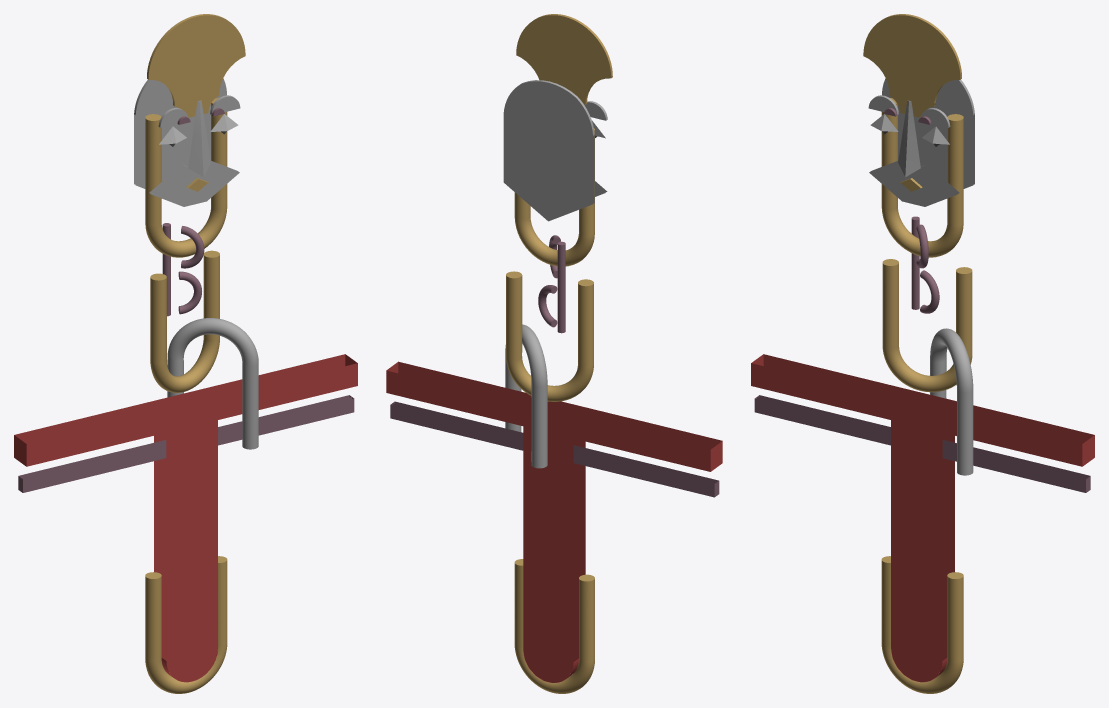
The model's file is 3D_totem_color.glb.
The picture shows the model from 3 angles, left to right: view 1: azimuth 30°, elevation 25°; view 2: azimuth 150°, elevation 25°; view 3: azimuth 330°, elevation 25°; orthographic projection. The views are drawn at different scales.
Parts seen in each view (by area): view 1: objMesh; view 2: objMesh; view 3: objMesh.
Part boxes in pixels (bbox=[...]): objMesh: bbox=[14, 14, 357, 693]; objMesh: bbox=[386, 14, 722, 693]; objMesh: bbox=[751, 14, 1094, 693].
Size of the model in its own units: 0.2319 by 0.4574 by 0.0419.
7 materials, 7 textured.
